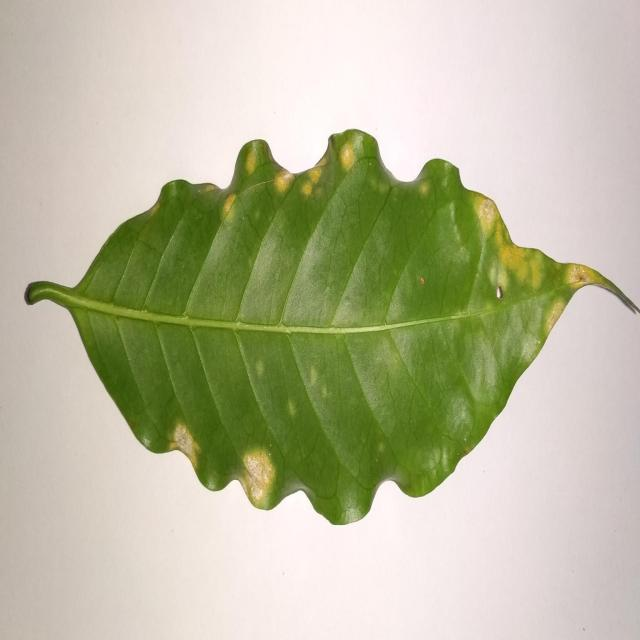rust: (470, 192, 549, 299), (548, 263, 627, 329), (270, 146, 329, 198), (238, 447, 284, 510), (199, 164, 243, 217), (167, 419, 202, 472), (335, 130, 371, 176)
